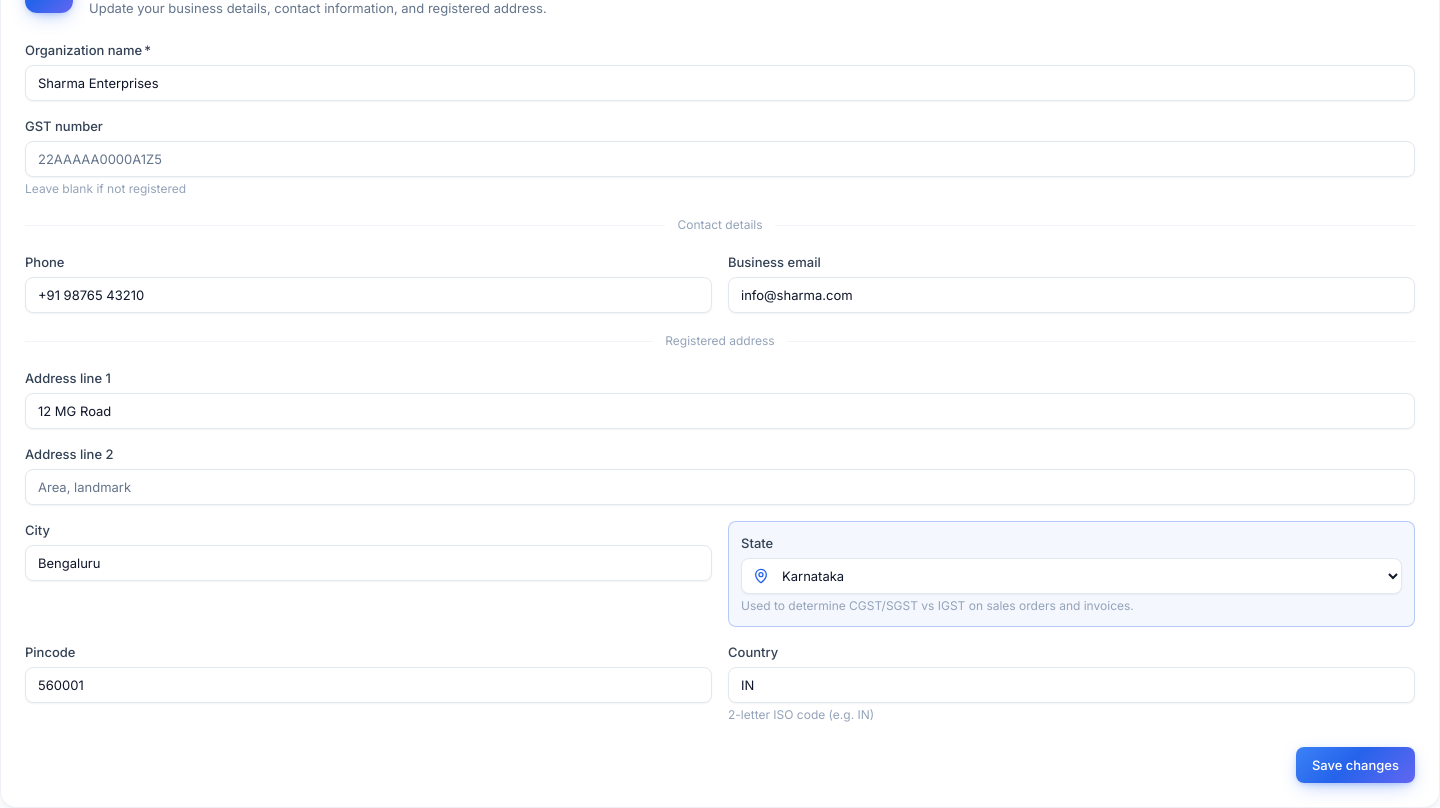
Test case: OrganizationProfileForm › surfaces a server error returned by the action
(page scrolled)
What coordinates should you click on to do the following:
click the button "Save changes"
I would click on:
 (1355, 765)
Its box is [1296,747,1415,783].
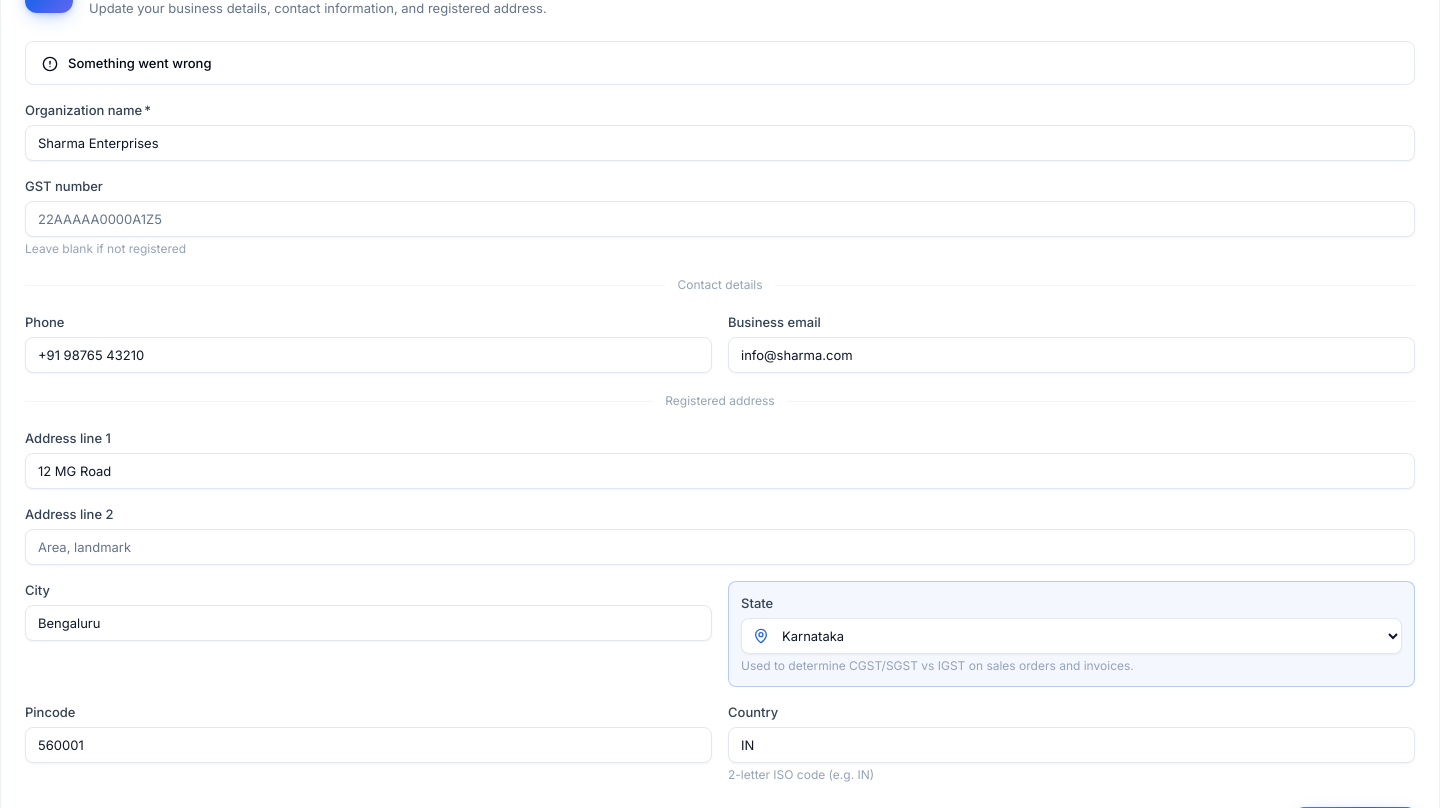
Now the text "Something went wrong" is shown, box [68,54,212,72]
